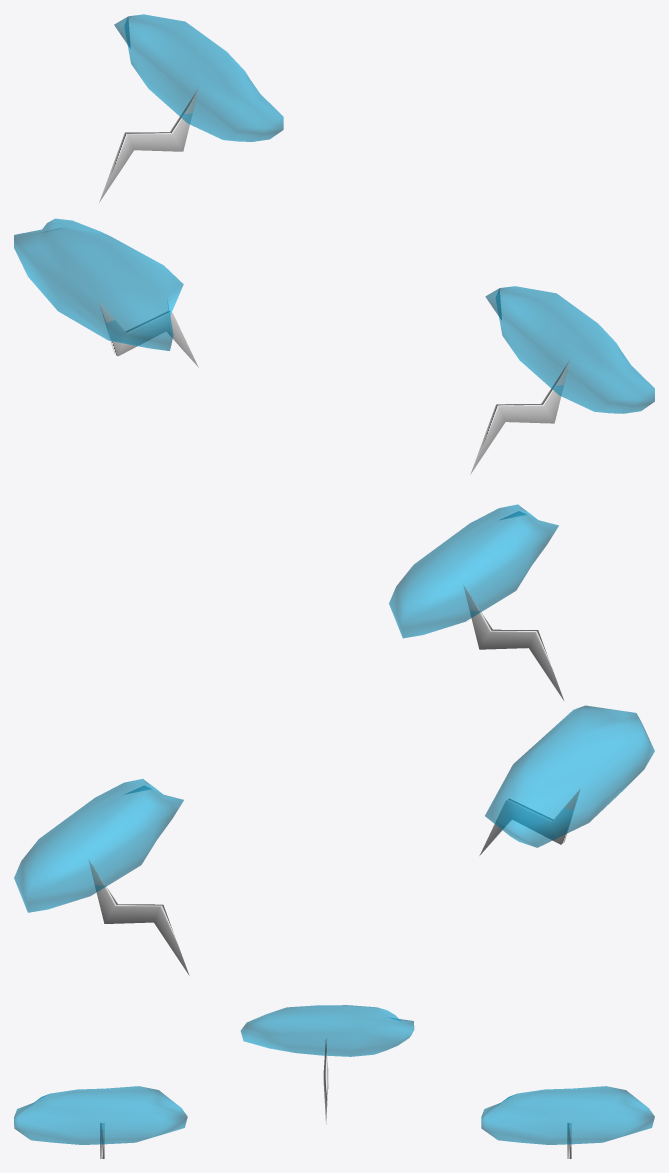
File: ThunderWeapon.fbx
3 views of the same model, one above another, from view 1: azimuth 30°, elevation 25°; view 2: azimuth 150°, elevation 25°; view 3: azimuth 270°, elevation 25° (orthographic). The views are drawn at different scales.
Parts seen in each view (by area): view 1: Sphere, Sphere.002, Sphere.001, Cube.002, Cube.001, Cube; view 2: Sphere, Sphere.002, Sphere.001, Cube.002, Cube.001, Cube; view 3: Sphere.002, Sphere.001, Sphere, Cube.
Boxes of the visible parts, box(x1,y1,x2,y2) form: Sphere: box(14, 218, 183, 350); Sphere.002: box(114, 14, 283, 141); Sphere.001: box(485, 286, 654, 413); Cube.002: box(99, 88, 198, 202); Cube.001: box(470, 359, 570, 474); Cube: box(98, 301, 198, 367); Sphere: box(485, 705, 654, 847); Sphere.002: box(14, 779, 183, 912); Sphere.001: box(389, 504, 558, 638); Cube.002: box(88, 859, 189, 975); Cube.001: box(463, 585, 564, 701); Cube: box(479, 789, 580, 855); Sphere.002: box(481, 1086, 654, 1144); Sphere.001: box(14, 1086, 187, 1144); Sphere: box(241, 1005, 414, 1056); Cube: box(323, 1038, 328, 1124).
Size of the model in its own units: 14.95 by 5.9 by 37.99.
